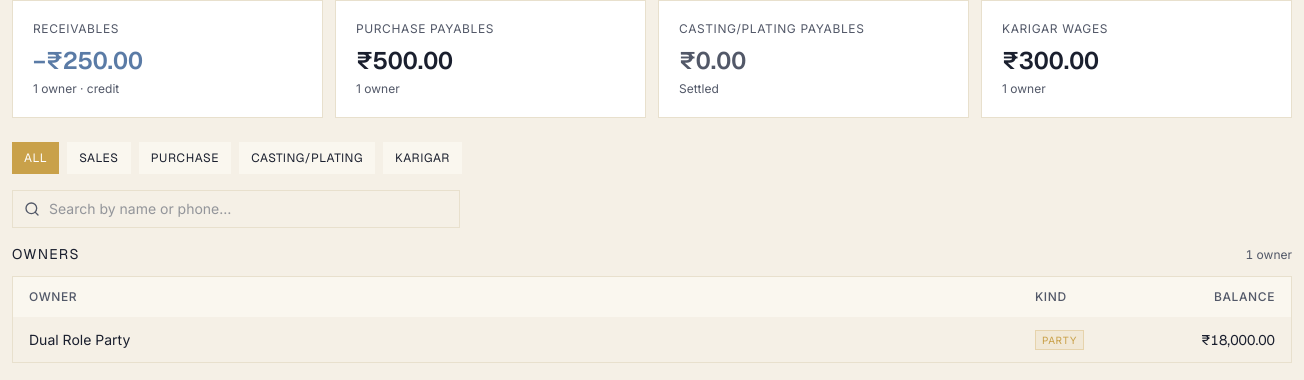
LedgerClient — category tabs (Phase 21c.1.1) › dual-role party appears under BOTH Sales and Purchase with per-tab slice as displayed balance
Click the radio button with test id "ledger-tab" showing "Sales" at [99, 158], box [67,142,131,174]
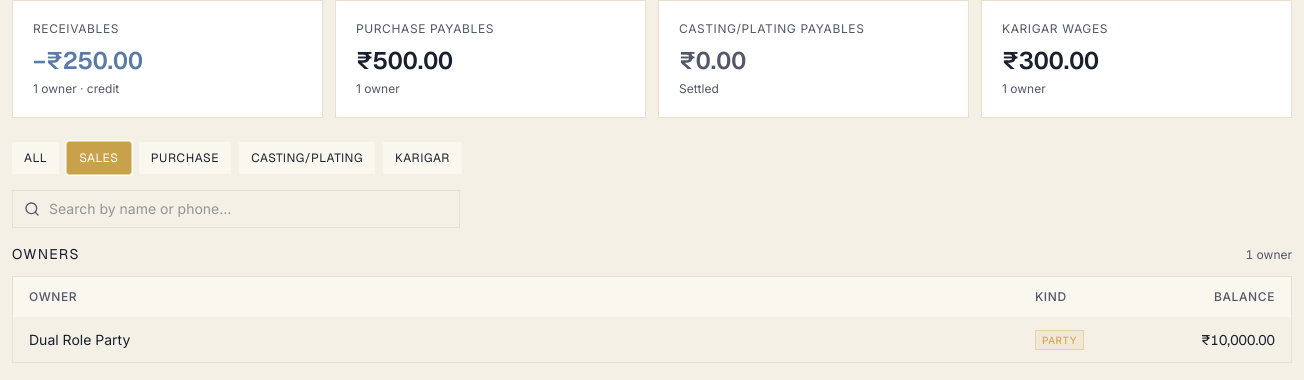
Result: the row with test id "ledger-owner-row" shows "10,000" at [1201,331,1275,349]
Result: the cell with test id "ledger-owner-row" no longer shows "18,000"
Click the radio button with test id "ledger-tab" showing "Purchase" at [185, 158], box [139,142,231,174]
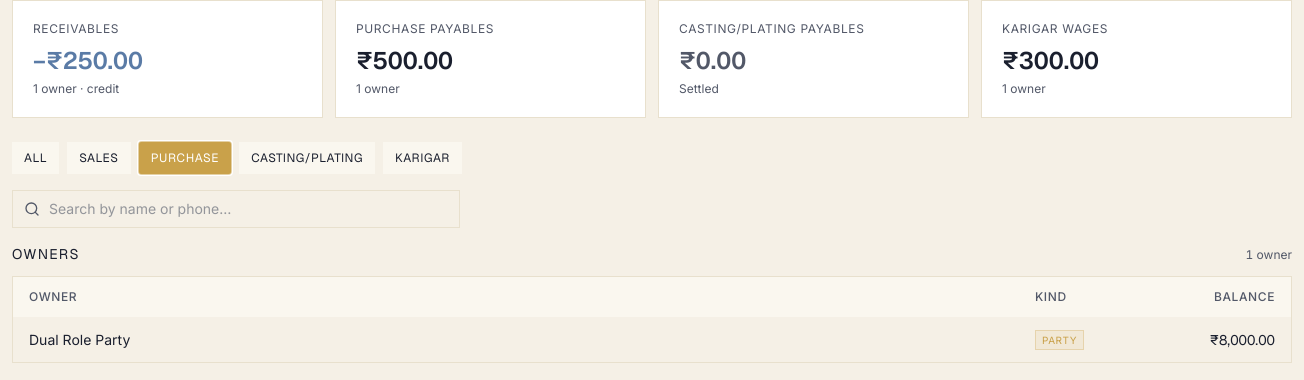
Expected: the cell with test id "ledger-owner-row" does not show "18,000"
Result: the row with test id "ledger-owner-row" shows "8,000" at [1209,331,1275,349]
Result: the cell with test id "ledger-owner-row" no longer shows "10,000"
Click the radio button with test id "ledger-tab" showing "All" at [36, 158], box [12,142,59,174]
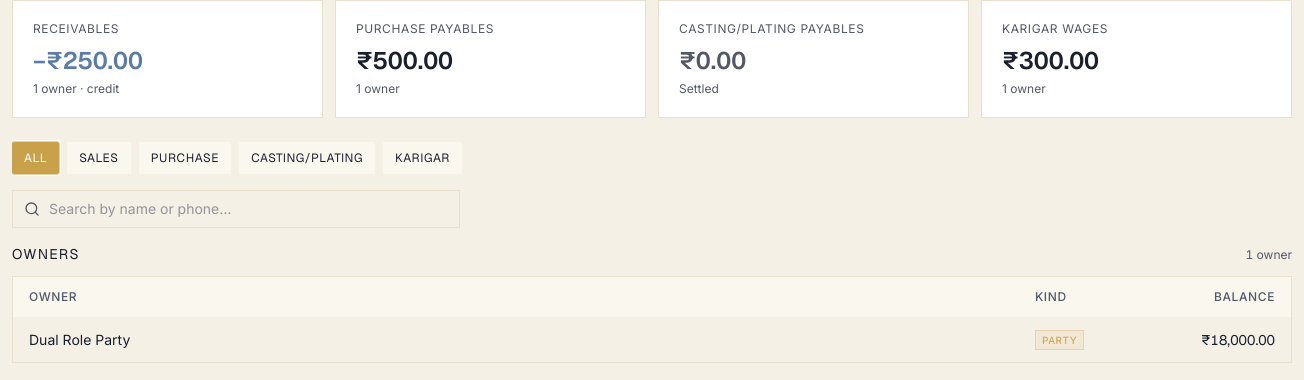
Result: the row with test id "ledger-owner-row" shows "18,000" at [1201,331,1275,349]
